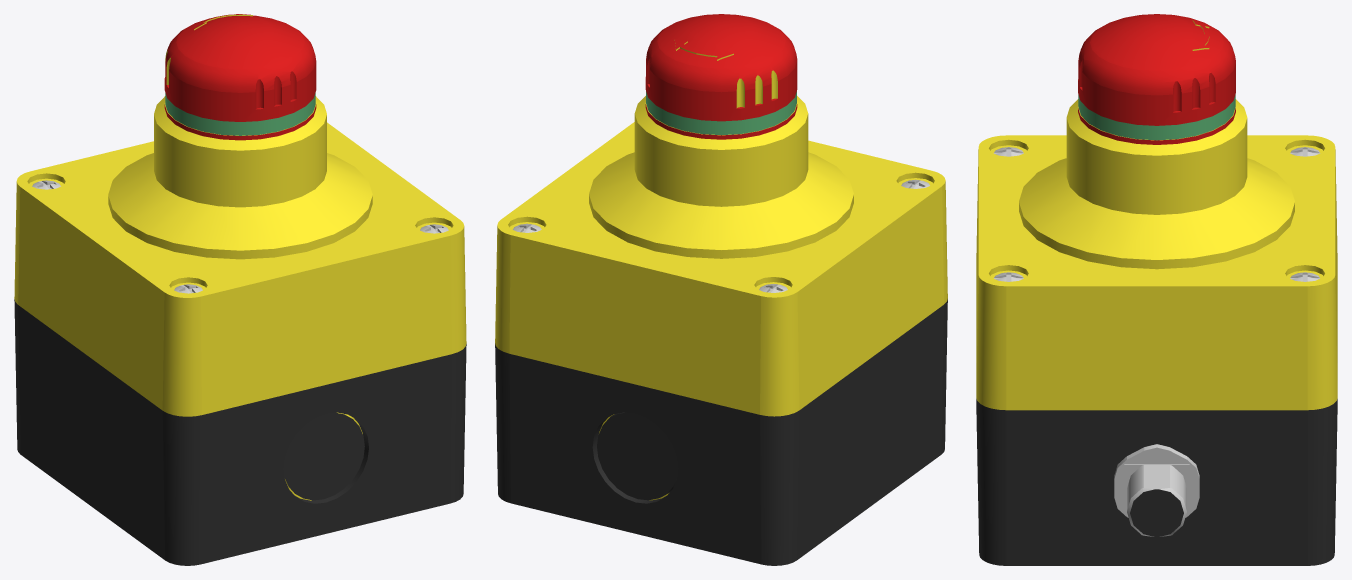
Rendered from emergency stop button.fbx.
The picture shows the model from 3 angles, left to right: view 1: azimuth 30°, elevation 25°; view 2: azimuth 150°, elevation 25°; view 3: azimuth 270°, elevation 25°; orthographic projection. The views are drawn at different scales.
Visible parts, largest first — view 1: 81150-16-204210_1; view 2: 81150-16-204210_1; view 3: 81150-16-204210_1.
Part boxes in pixels (box(x1,y1,x2,y2)): 81150-16-204210_1: box(14, 14, 466, 565); 81150-16-204210_1: box(495, 14, 947, 565); 81150-16-204210_1: box(976, 14, 1337, 565).
Bounding box in the file's own units: 84.79 × 102 × 72.
